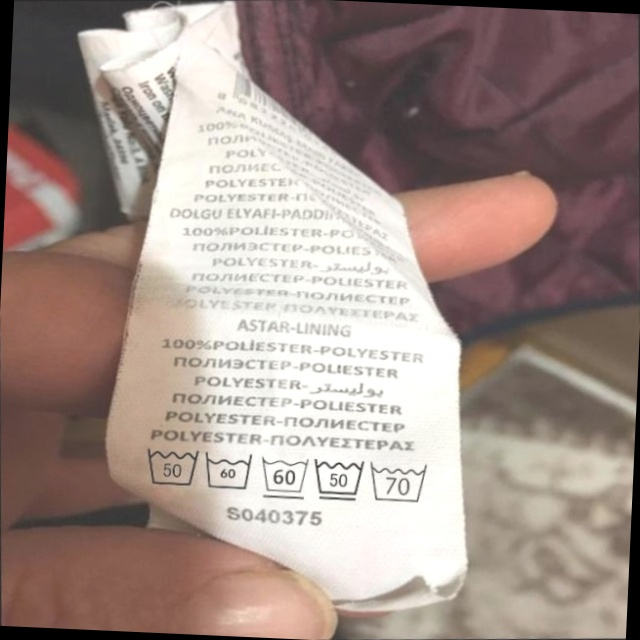50C: (138, 438, 205, 494), (309, 452, 370, 507)
60C: (257, 450, 315, 503), (201, 446, 259, 497)
70C: (368, 457, 436, 508)
